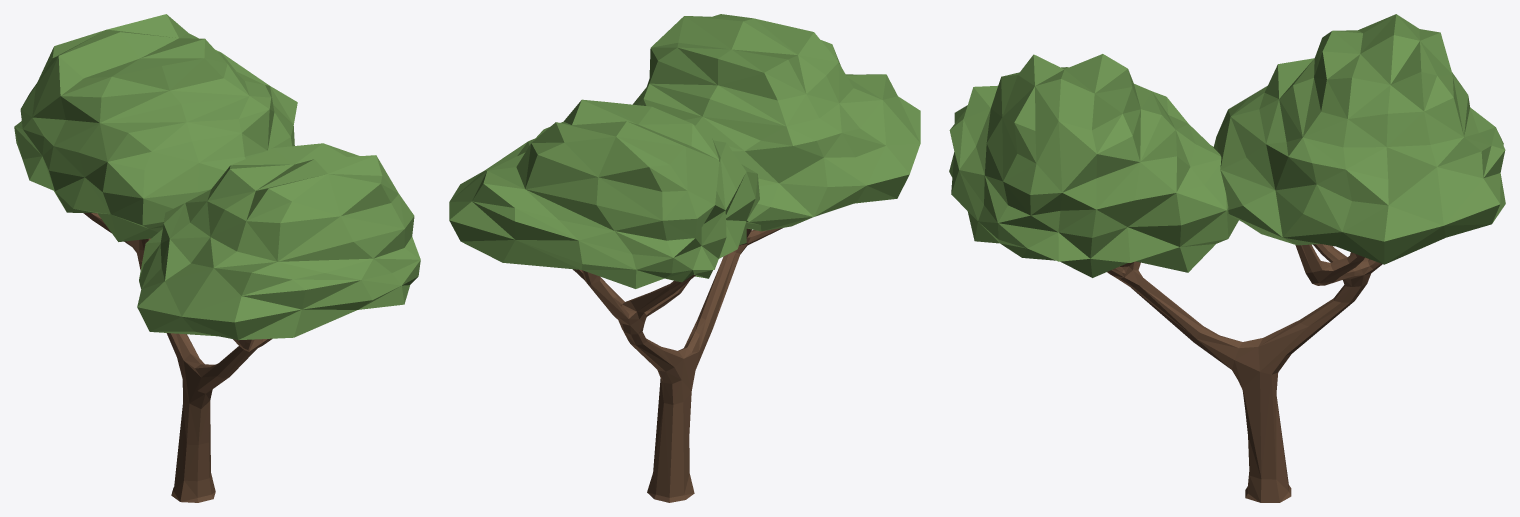
Rendered from CommonTree_1.glb.
3 views of the same model, side by side, from view 1: azimuth 30°, elevation 25°; view 2: azimuth 150°, elevation 25°; view 3: azimuth 270°, elevation 25° (orthographic). The views are drawn at different scales.
Parts seen in each view (by area): view 1: CommonTree_1; view 2: CommonTree_1; view 3: CommonTree_1.
Part boxes in pixels (left/top/right/bottom): CommonTree_1: left=14, top=14, right=420, bottom=502; CommonTree_1: left=449, top=14, right=920, bottom=502; CommonTree_1: left=949, top=14, right=1505, bottom=502.
Size of the model in its own units: 1.89 by 2.48 by 2.77.
